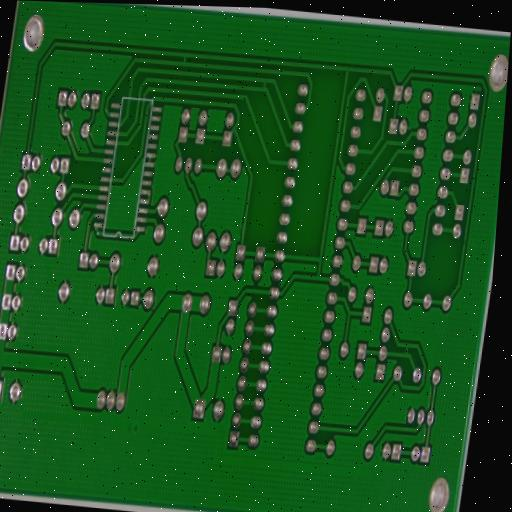short_circuit: (178, 54, 190, 71), (259, 77, 271, 93), (400, 345, 412, 359)
